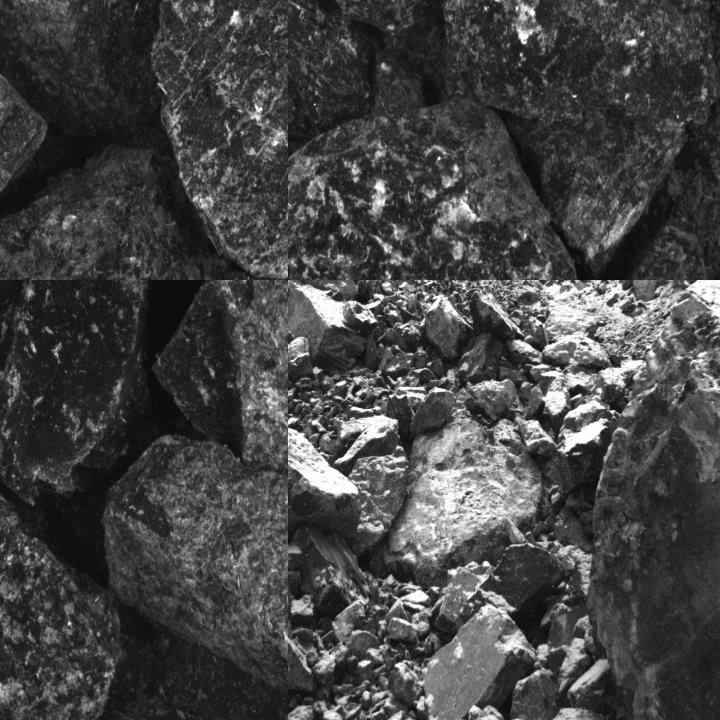stone: (445, 0, 718, 263), (587, 280, 719, 719), (288, 96, 591, 279), (103, 435, 287, 710), (0, 280, 171, 505), (150, 0, 287, 279), (0, 0, 260, 131), (0, 443, 119, 719), (153, 280, 287, 516), (0, 146, 229, 279), (374, 420, 542, 580), (288, 0, 469, 84), (418, 608, 538, 719), (288, 0, 372, 145), (288, 431, 366, 556), (462, 544, 572, 620), (292, 528, 381, 612), (288, 284, 364, 376), (592, 225, 718, 279), (558, 396, 625, 491), (354, 443, 409, 556), (332, 414, 402, 471), (424, 295, 472, 360), (470, 286, 524, 340), (376, 50, 421, 112), (508, 672, 564, 719), (408, 390, 458, 440), (544, 332, 613, 368), (288, 611, 318, 693), (459, 332, 504, 386), (469, 379, 517, 427), (588, 367, 628, 414), (341, 300, 379, 336), (546, 374, 570, 430), (390, 662, 422, 704), (514, 708, 634, 719), (520, 420, 557, 455), (299, 280, 359, 299), (288, 335, 315, 377), (386, 617, 417, 641), (527, 384, 544, 421)
